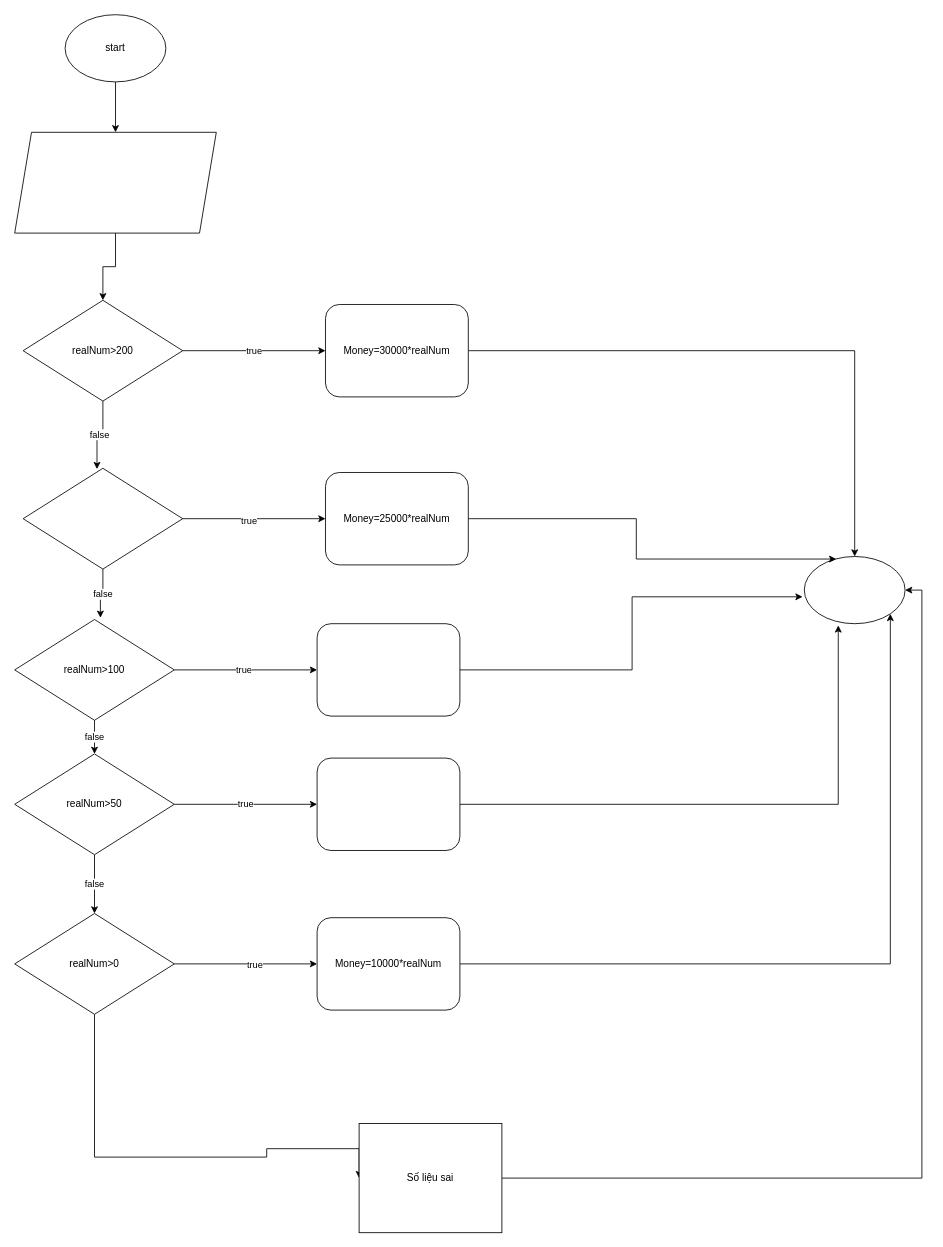
Some shapes in this 943 by 1247 pixel diagram are drawn without their labels. Each missing label, with the centre of its shape:
Money=15000*realNum: the point at 388,803
Money=20000*realNum: the point at 388,669
oldNum,newNum,money=0 ,realNum=newNum-oldNUm: the point at 115,182
realNum>150: the point at 102,518
